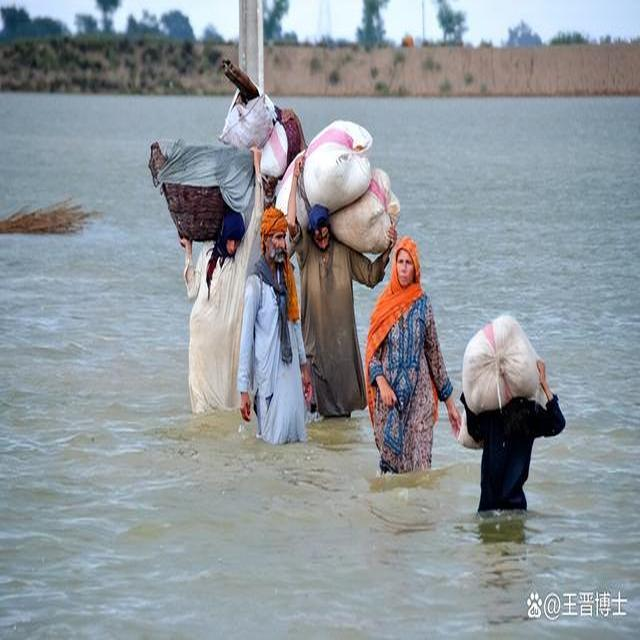Person-RiskLevel2: (282, 147, 389, 427), (360, 235, 461, 498), (171, 142, 268, 415), (452, 324, 559, 514), (239, 205, 321, 452)
